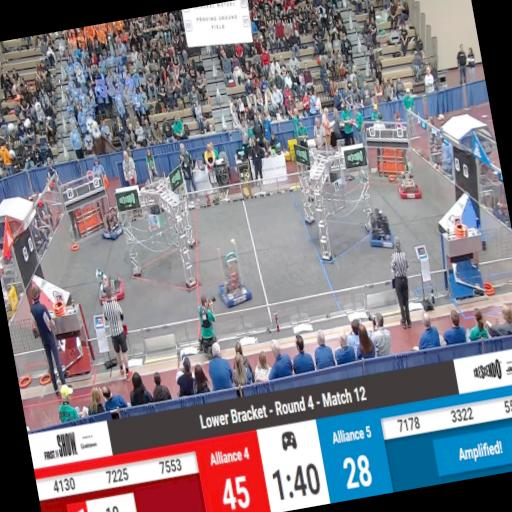robot: (214, 256, 252, 308), (362, 206, 395, 250), (93, 264, 126, 302), (98, 207, 126, 241), (396, 173, 422, 202)
